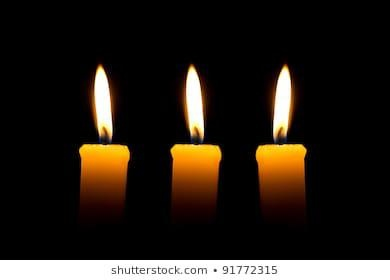fire: (89, 60, 113, 143), (270, 63, 294, 144), (183, 61, 206, 143)
